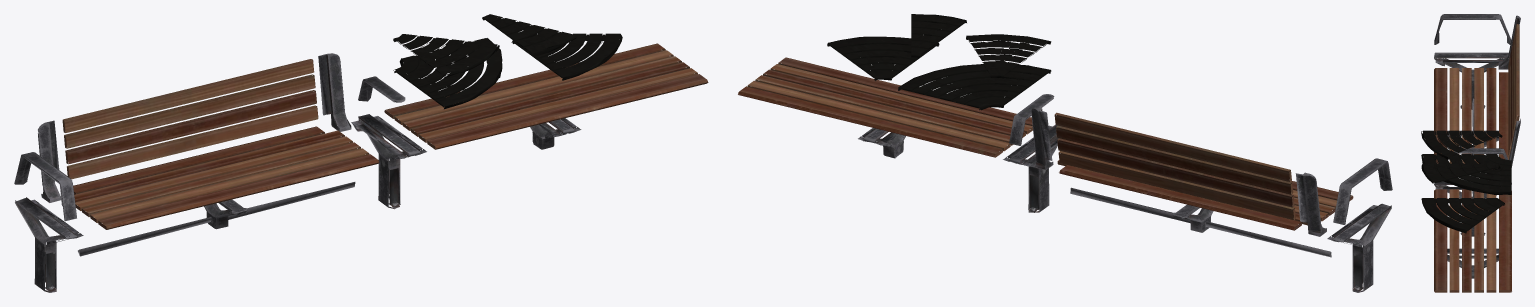
The model's file is ph_modular_street_seating.glb.
3 renders of one model, left to right at view 1: azimuth 30°, elevation 25°; view 2: azimuth 150°, elevation 25°; view 3: azimuth 270°, elevation 25°, orthographic. The views are drawn at different scales.
Visible parts, largest first — view 1: crossbar; view 2: crossbar; view 3: crossbar.
Boxes of the visible parts, box(x1,y1,x2,y2) form: crossbar: box(14, 14, 708, 292); crossbar: box(738, 14, 1392, 292); crossbar: box(1421, 14, 1520, 292).
Size of the model in its own units: 4.34 by 0.9557 by 0.7721.
5 materials, 5 textured.
